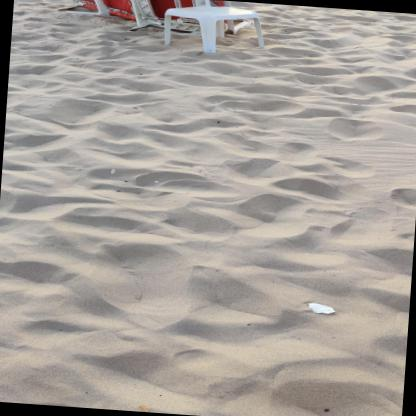Cigarette: (139, 405, 150, 412)
Plastic film: (307, 304, 336, 314)
Unlabeled litter: (111, 169, 116, 174), (155, 181, 159, 183)
